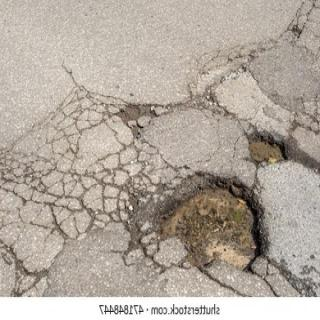pothole: (156, 180, 264, 273), (246, 127, 290, 164)
